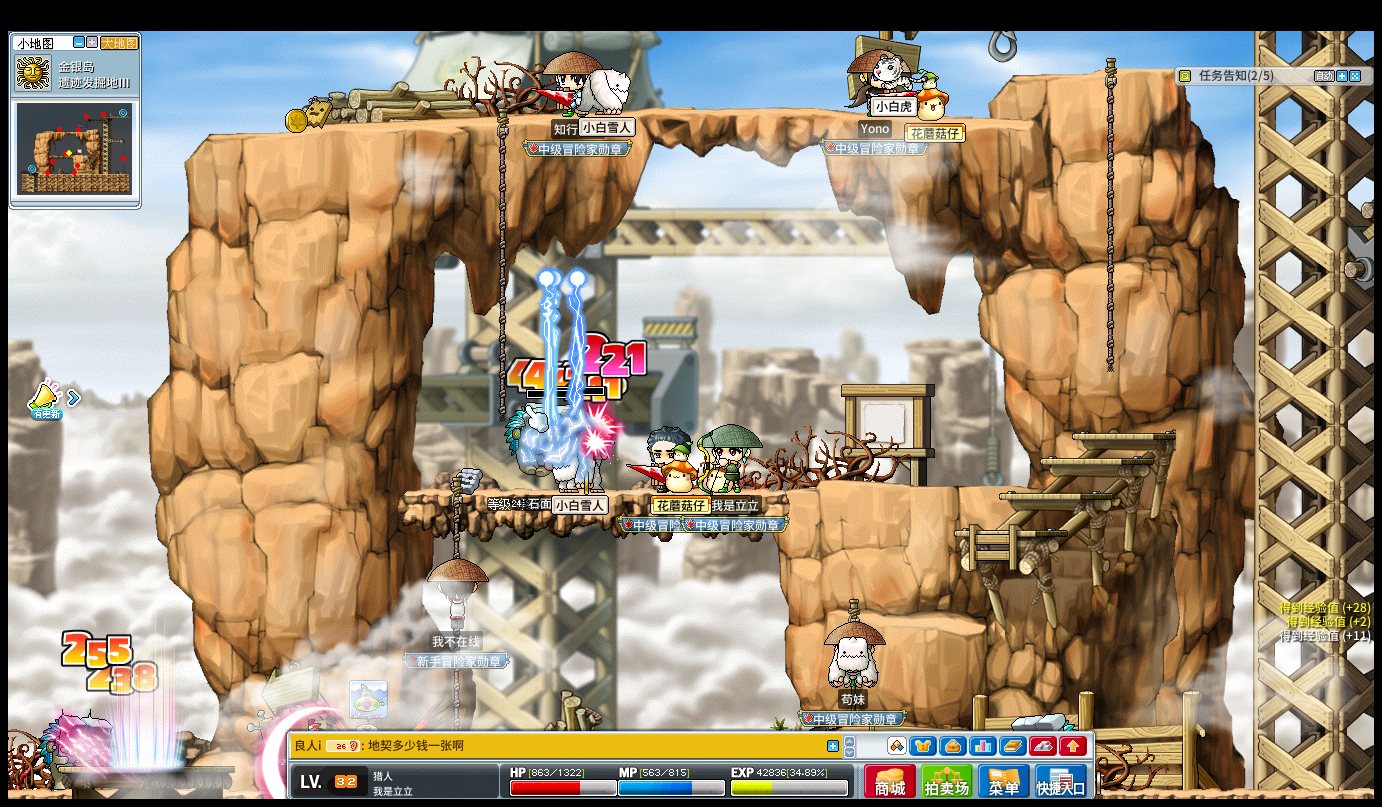floor: (185, 104, 1056, 137), (403, 488, 806, 499), (1005, 62, 1175, 77), (1009, 65, 1175, 79), (880, 613, 986, 634), (864, 483, 1037, 493), (863, 482, 1035, 491), (1070, 429, 1174, 440), (1034, 456, 1149, 464), (955, 528, 1067, 536), (1002, 492, 1112, 500)
monster: (502, 405, 564, 484), (45, 712, 114, 774)
rope: (1103, 55, 1116, 379), (497, 107, 507, 419), (1104, 58, 1116, 293), (448, 480, 462, 557)
